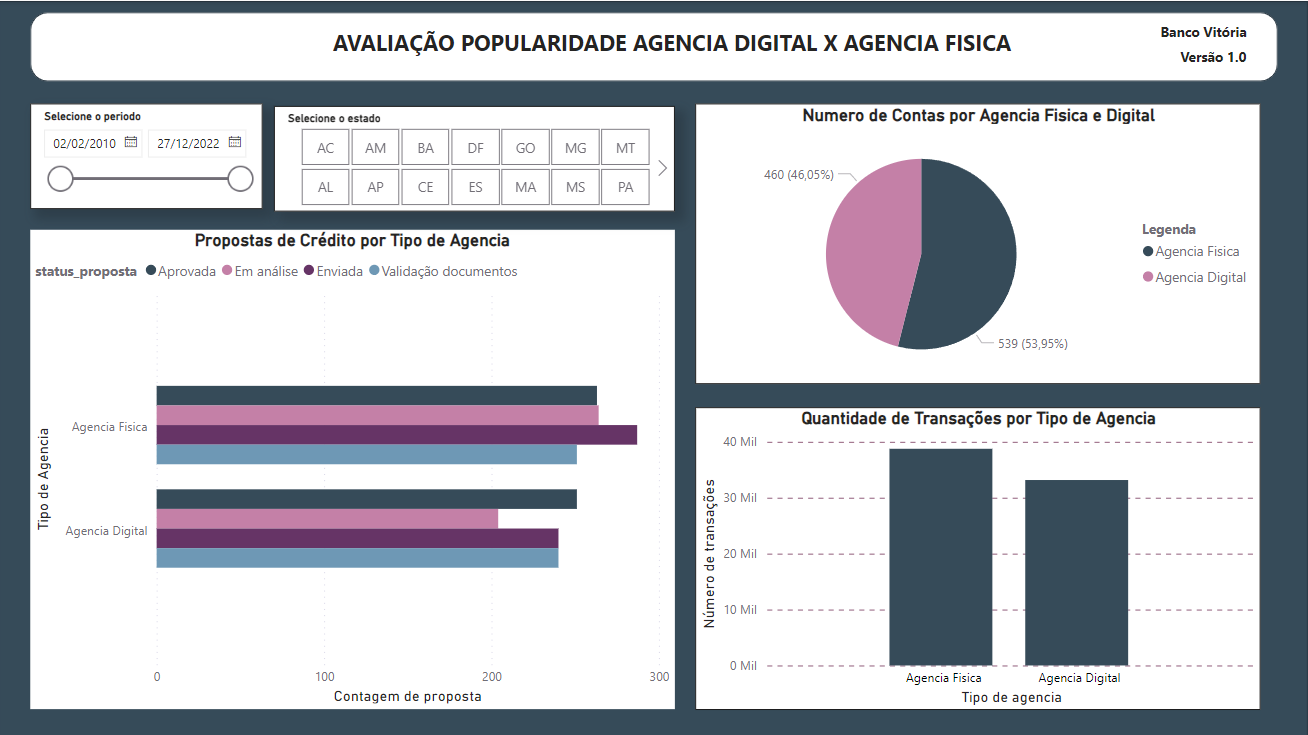

The dashboard page shown, as its layout file describes it:
{"tool":"powerbi","page":{"name":"Popularidade","canvas":[1280,720],"ordinal":0},"visuals":[{"type":"shape","box":[0,0,1280,720],"z":0},{"type":"pieChart","title":"Numero de Contas por Agencia Fisica e Digital","fields":{"Y":["CountNonNull(contas1 0.tipo_agencia)"],"Category":["contas1 0.tipo_agencia"]},"box":[681.4,100,552.9,274.3],"z":1000},{"type":"columnChart","title":"Quantidade de Transações por Tipo de Agencia","fields":{"Category":["transacoes2 0.tipo_agencia"],"Y":["CountNonNull(transacoes2 0.nome_transacao)"]},"box":[681.4,397.1,552.9,295.7],"z":2000},{"type":"shape","box":[30,10.8,1220,67.7],"z":3000},{"type":"textbox","box":[321.2,21.2,720,47.5],"z":4000},{"type":"textbox","box":[1131.2,16.2,107.5,28.8],"z":5000},{"type":"textbox","box":[1150.8,40.8,83.1,28.5],"z":6000},{"type":"slicer","fields":{"Values":["contas1 0.data_abertura"]},"box":[30,100,227.1,102.9],"z":7000},{"type":"clusteredBarChart","title":"Propostas de Crédito por Tipo de Agencia","fields":{"Category":["propostas_credito1 0.tipo_agencia"],"Series":["propostas_credito1 0.status_proposta"],"Y":["CountNonNull(propostas_credito1 0.status_proposta)"]},"box":[30,224.3,630,468.6],"z":8000},{"type":"slicer","fields":{"Values":["transacoes2 0.estado"]},"box":[268.7,102.8,392.1,102.8],"z":8001}]}

Visuals, with their boxes in screenshot pixels (x1, y1, x2, y2), scaled from the page's 1280x720 canvas onto the 1308x735 screenshot:
shape: <region>0, 0, 1307, 734</region>
"Numero de Contas por Agencia Fisica e Digital" pieChart: <region>696, 102, 1261, 382</region>
"Quantidade de Transações por Tipo de Agencia" columnChart: <region>696, 405, 1261, 707</region>
shape: <region>31, 11, 1277, 80</region>
textbox: <region>328, 22, 1064, 70</region>
textbox: <region>1156, 17, 1266, 46</region>
textbox: <region>1176, 42, 1261, 71</region>
slicer - contas1 0.data_abertura: <region>31, 102, 263, 207</region>
"Propostas de Crédito por Tipo de Agencia" clusteredBarChart: <region>31, 229, 674, 707</region>
slicer - transacoes2 0.estado: <region>275, 105, 675, 210</region>
